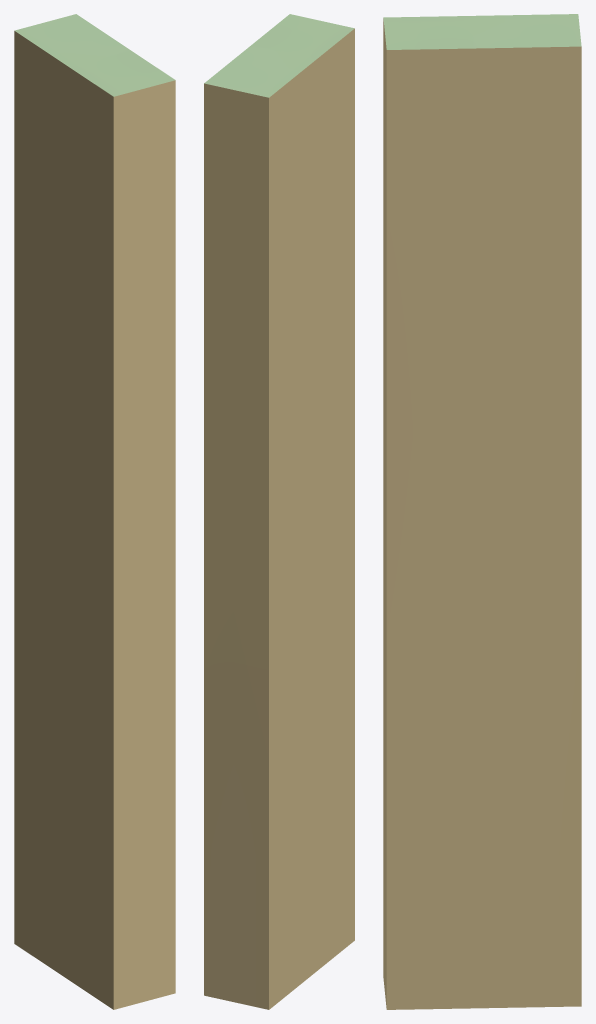
File: Blocks-068.fbx
The picture shows the model from 3 angles, left to right: view 1: azimuth 30°, elevation 25°; view 2: azimuth 150°, elevation 25°; view 3: azimuth 270°, elevation 25°; orthographic projection. The views are drawn at different scales.
Visible parts, largest first — view 1: Blocks-068; view 2: Blocks-068; view 3: Blocks-068.
Boxes of the visible parts, x1,y1,x2,y2 form: Blocks-068: (14,14,175,1009); Blocks-068: (204,14,354,1009); Blocks-068: (383,14,581,1009).
Bounding box in the file's own units: 2604 × 32287 × 6042.
